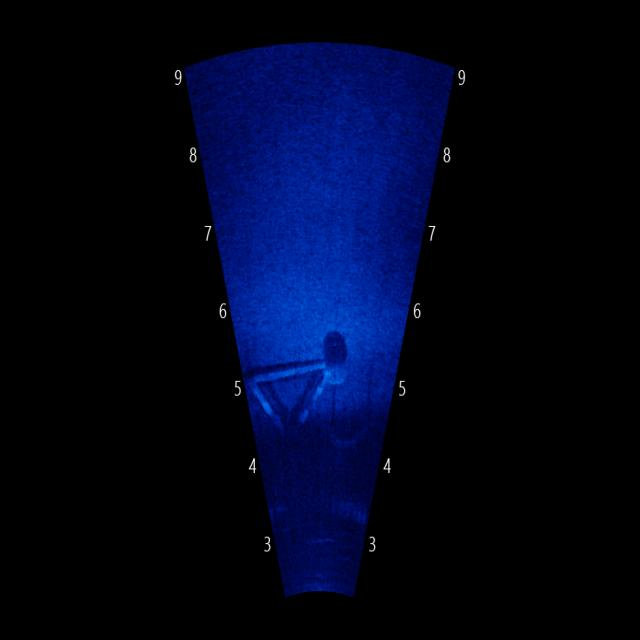triangle: (245, 353, 338, 449)
